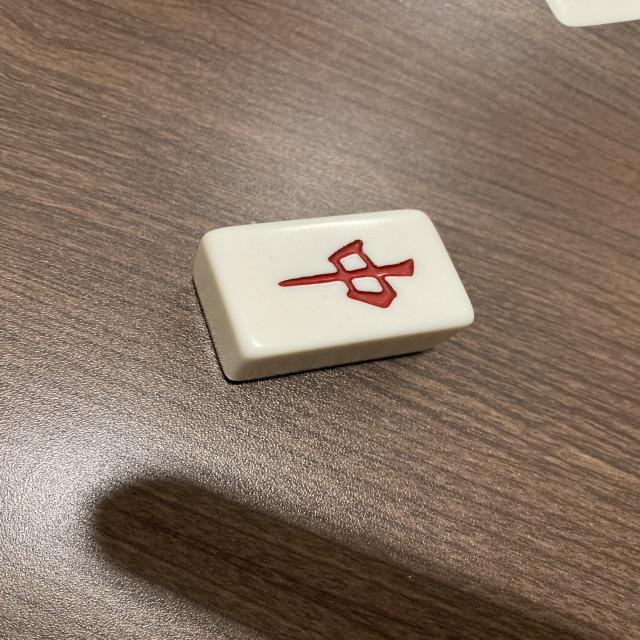zhong: (209, 211, 476, 355)
